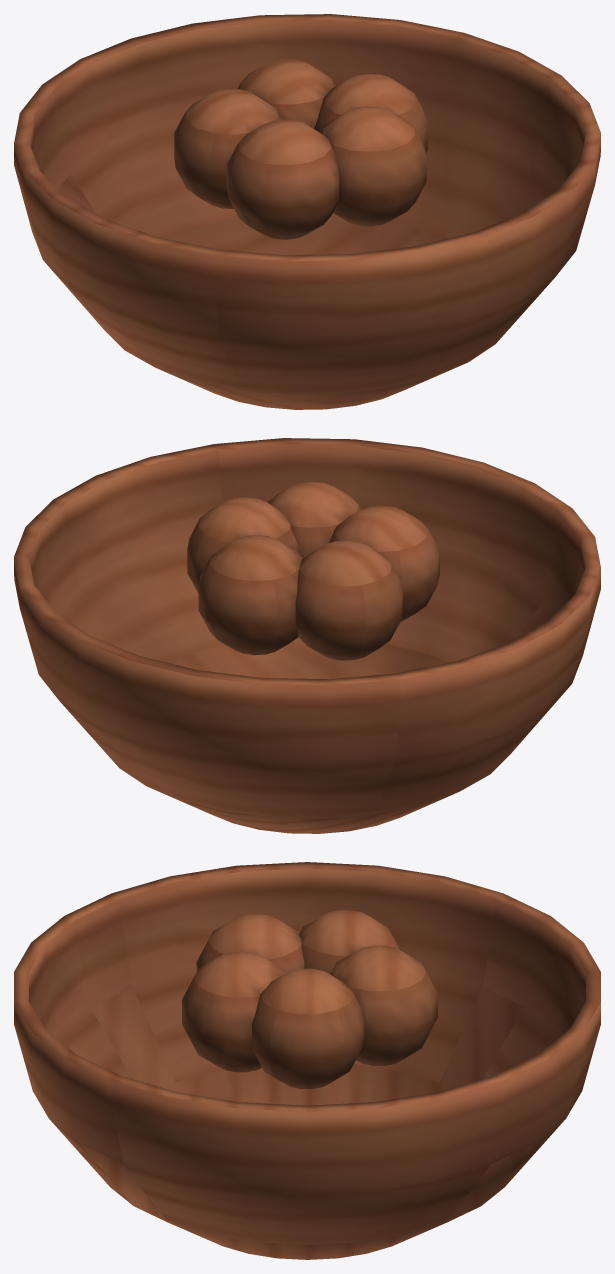
The model's file is p_bowl.glb.
3 renders of one model, top to bottom at view 1: azimuth 30°, elevation 25°; view 2: azimuth 150°, elevation 25°; view 3: azimuth 270°, elevation 25°, orthographic.
Visible parts, largest first — view 1: bowl; view 2: bowl; view 3: bowl.
Boxes of the visible parts, x1,y1,x2,y2 form: bowl: (14, 14, 600, 409); bowl: (14, 438, 600, 833); bowl: (14, 862, 600, 1259).
Size of the model in its own units: 0.475 by 0.2486 by 0.4714.
1 material, 1 textured.
